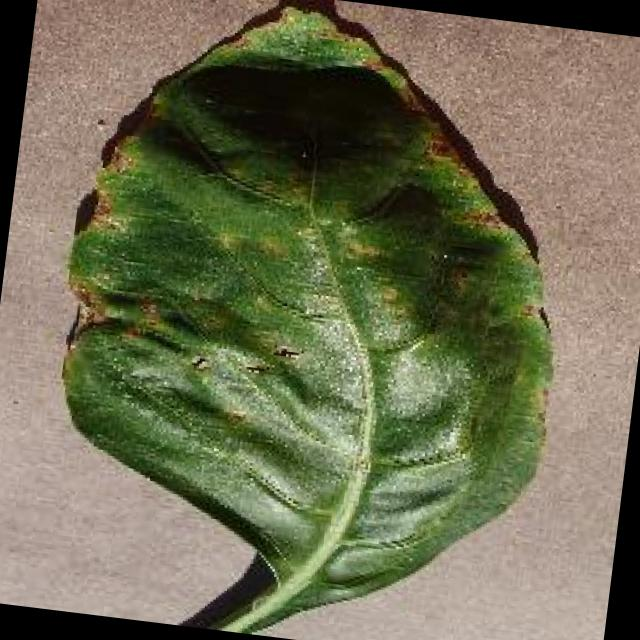Chilli_Bacterial_Spot: (20, 0, 599, 640), (180, 324, 308, 391), (425, 248, 479, 308), (265, 336, 305, 366), (237, 353, 275, 382), (182, 349, 215, 377)
